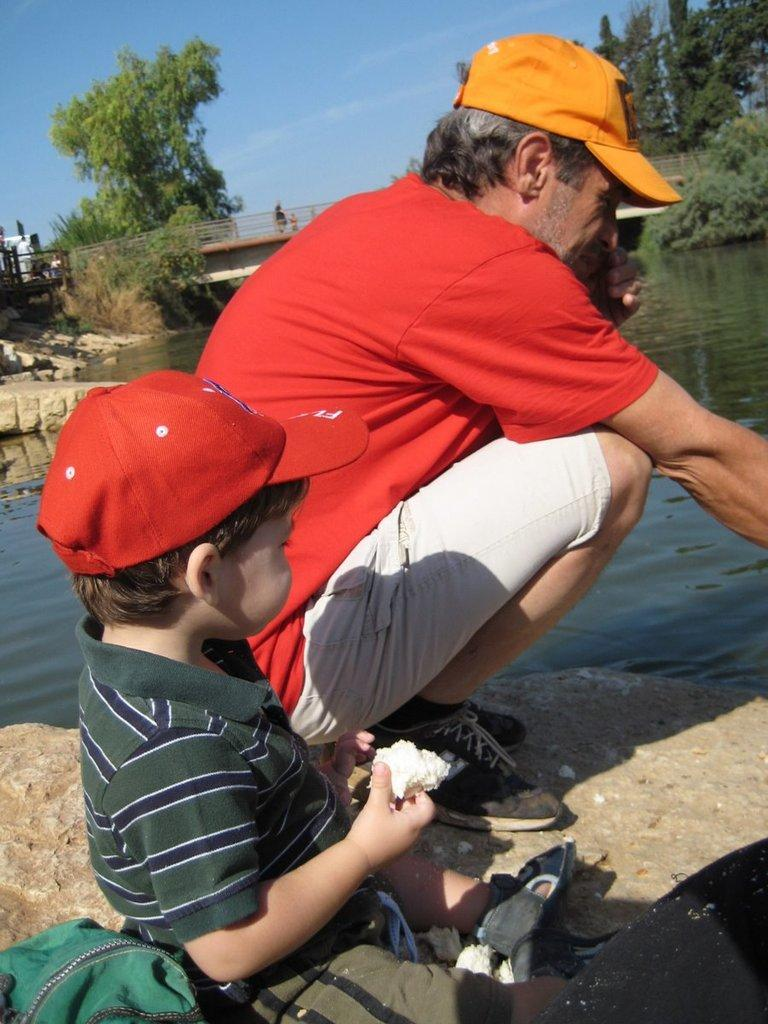Hat: (35, 368, 369, 575), (453, 38, 681, 210)
